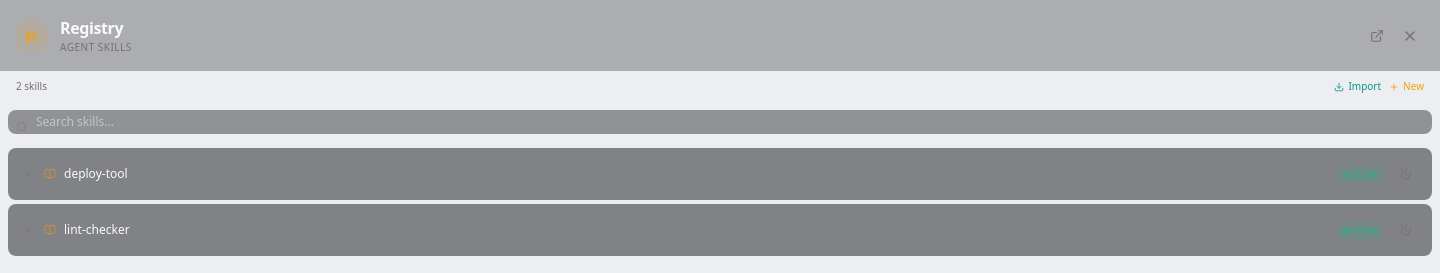
Scenario: RegistrySidebar › filters skills by search query
Type "deploy" into the field with placeholder "Search skills..." at [720, 122], box x1=8 y1=110 x2=1432 y2=134
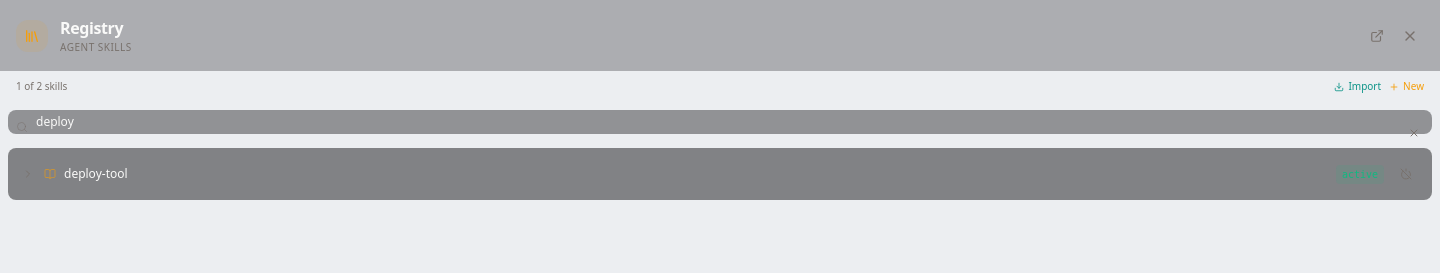
Expected: the text "deploy-tool" is shown, x1=64 y1=165 x2=128 y2=182
Expected: the text "lint-checker" is gone
